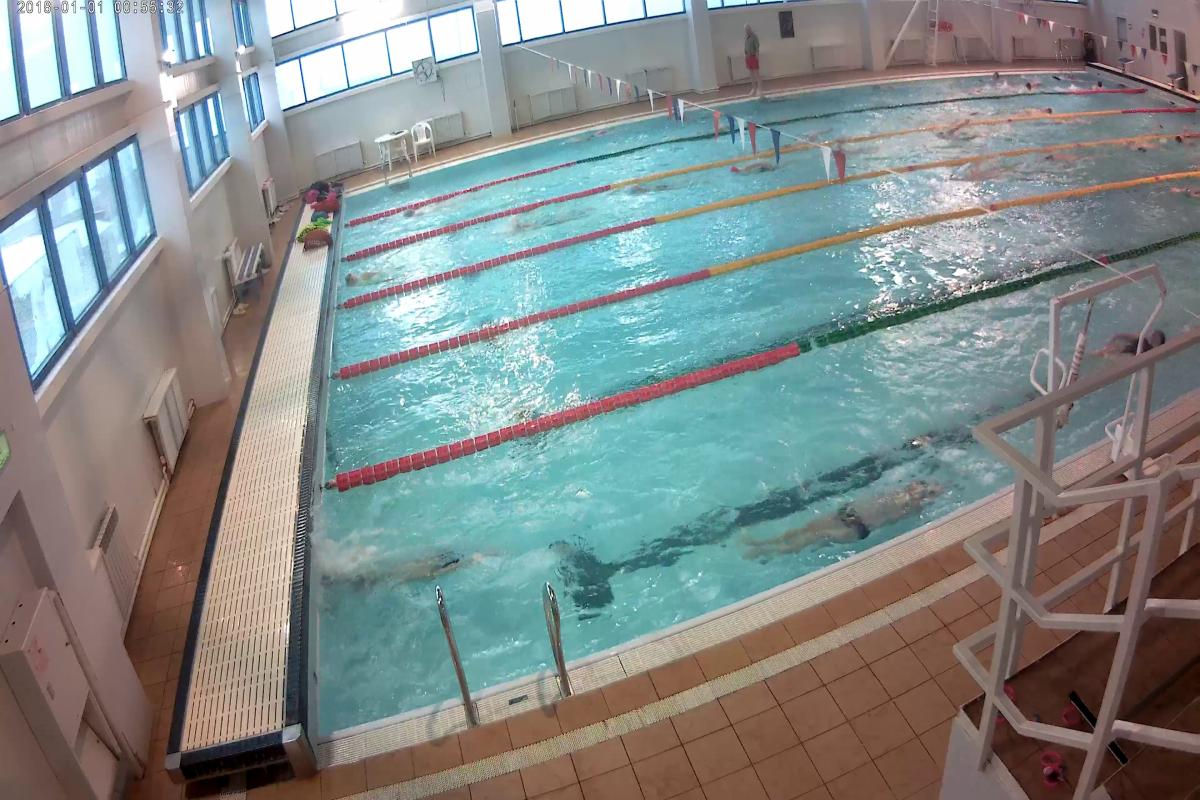swimmer: (741, 486, 947, 546), (346, 546, 508, 573), (935, 162, 1027, 185), (721, 158, 810, 176), (342, 262, 404, 287), (632, 180, 697, 196), (505, 217, 563, 230)
